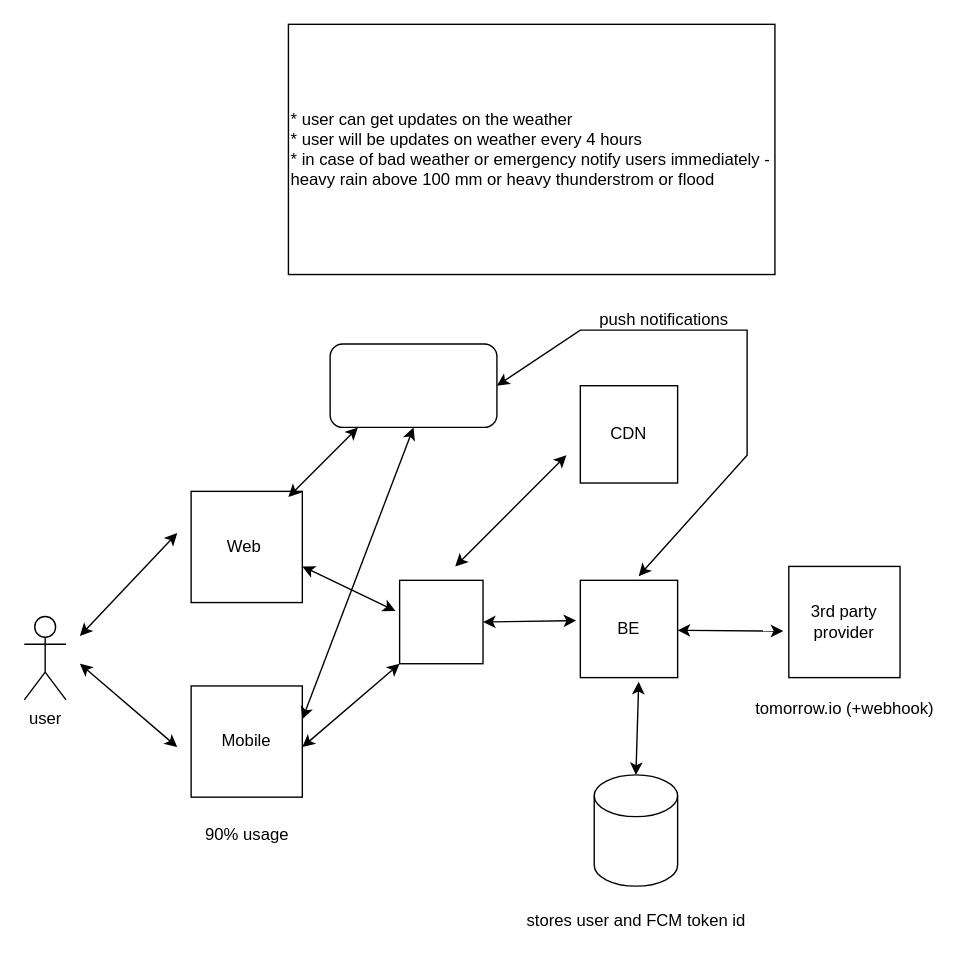
This 973x966 diagram has some shape labels left out. Here are the shapes that lost their labels. From the top down, the centre of each, then its label:
At [413,385]: "FCM".
At [440,621]: "LB".
At [635,830]: "DB".
